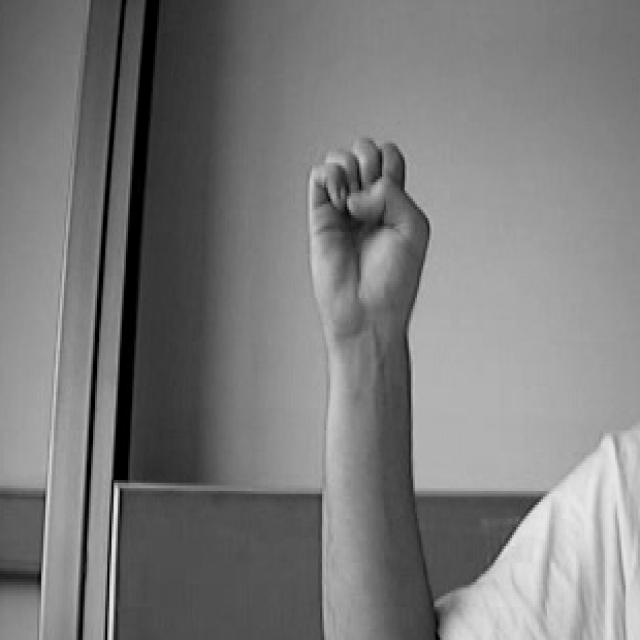E: (297, 124, 440, 335)
